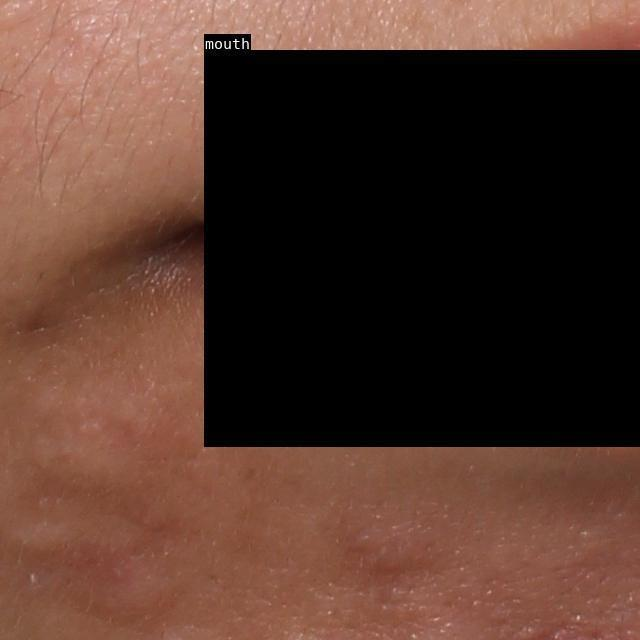hypertrophic_scar: (26, 428, 150, 498), (348, 517, 445, 578)
